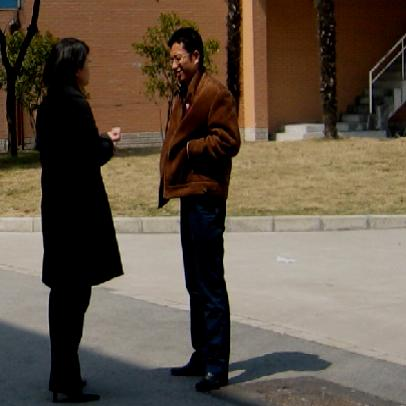ped: (38, 39, 125, 401), (162, 28, 241, 390)
